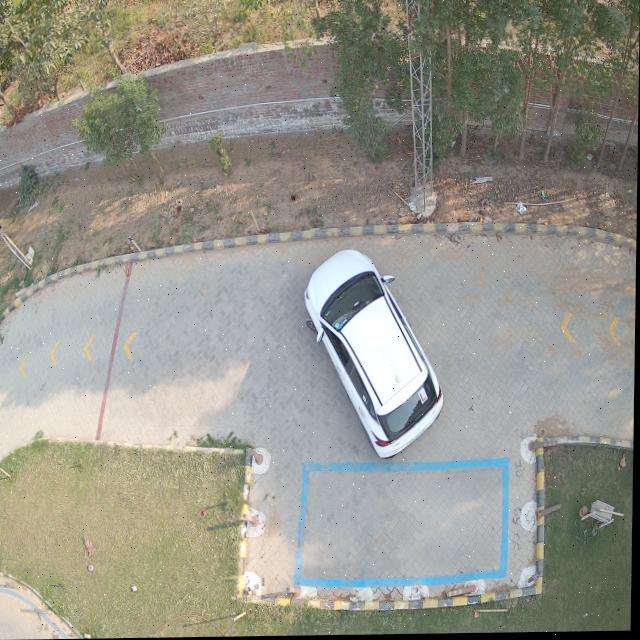car: (305, 251, 445, 459)
